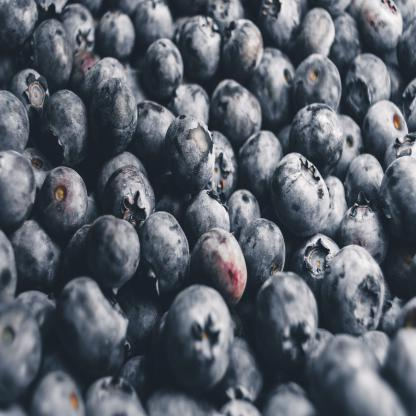blueberry: (160, 284, 240, 400), (250, 271, 312, 374), (325, 244, 382, 344), (270, 152, 329, 236), (162, 108, 214, 196), (190, 229, 248, 303), (105, 160, 157, 237), (290, 101, 342, 176), (141, 210, 188, 292), (214, 73, 262, 149), (41, 89, 86, 166), (86, 76, 134, 148), (40, 167, 88, 237), (381, 153, 415, 251), (296, 54, 342, 122), (344, 54, 390, 121), (30, 23, 73, 91), (139, 37, 180, 93), (184, 17, 218, 80)
